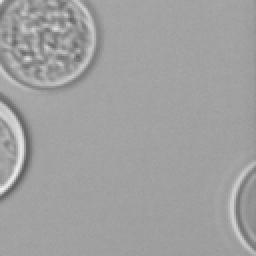picoshell: (0, 0, 98, 88), (0, 100, 26, 198), (236, 168, 254, 248)
